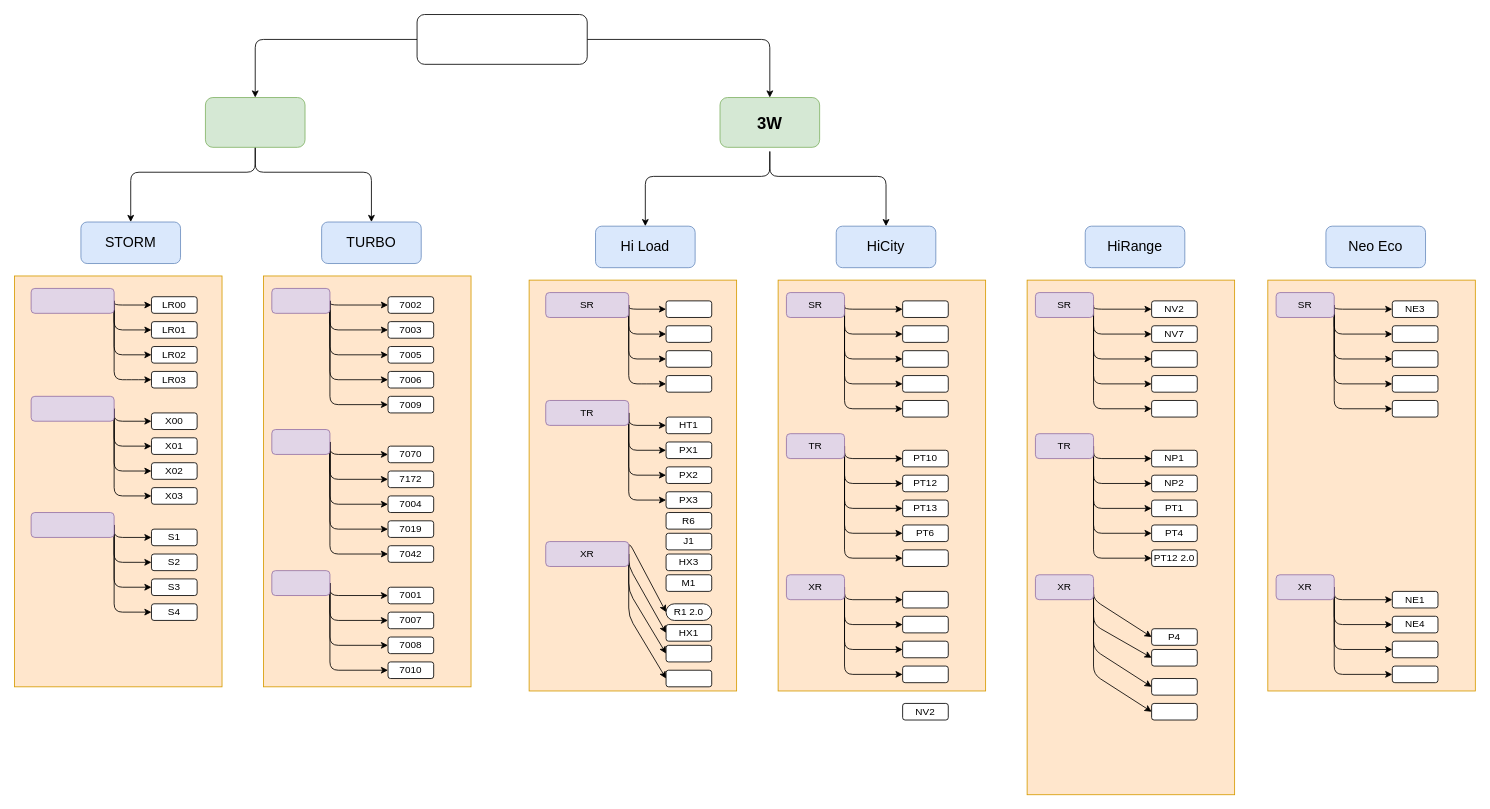
The diagram is 1490 pixels wide and 809 high, and some of its shapes have lost their labels. The centre of each missing label's shape, as x and y in pixels:
"4W" goes at point (255, 122).
"LR200" goes at point (72, 300).
"Select vehicle Type" goes at point (501, 39).
"STORM 1250" goes at point (72, 524).
"STORM 1750" goes at point (72, 408).
"V1" goes at point (300, 300).
"V2" goes at point (300, 441).
"V3" goes at point (300, 583).
